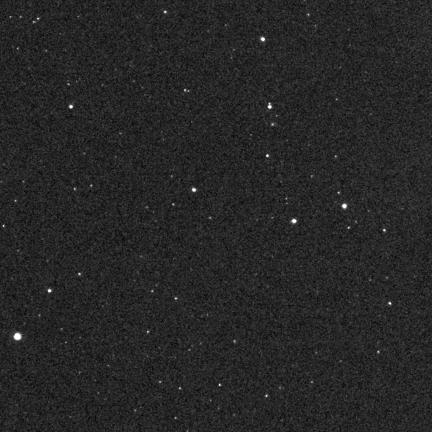blob: (14, 333, 22, 341), (342, 204, 348, 210), (291, 219, 297, 224), (268, 103, 272, 109), (261, 37, 265, 42), (69, 105, 73, 109), (192, 188, 196, 192), (48, 289, 51, 292)
